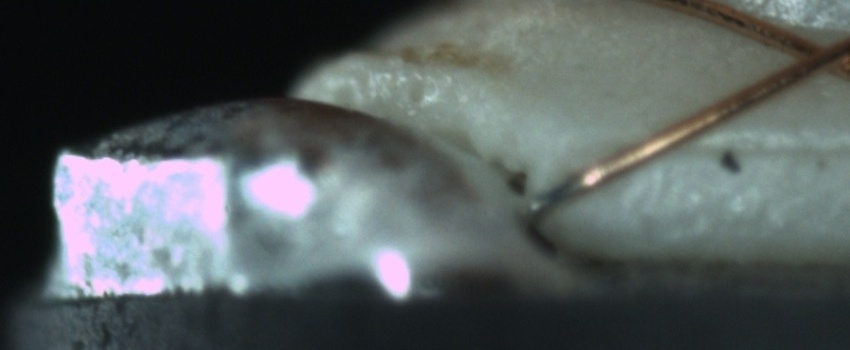CL: (776, 25, 848, 84)
DL: (674, 116, 849, 175)
TS: (525, 173, 579, 212)
TTCW: (526, 153, 621, 213)
